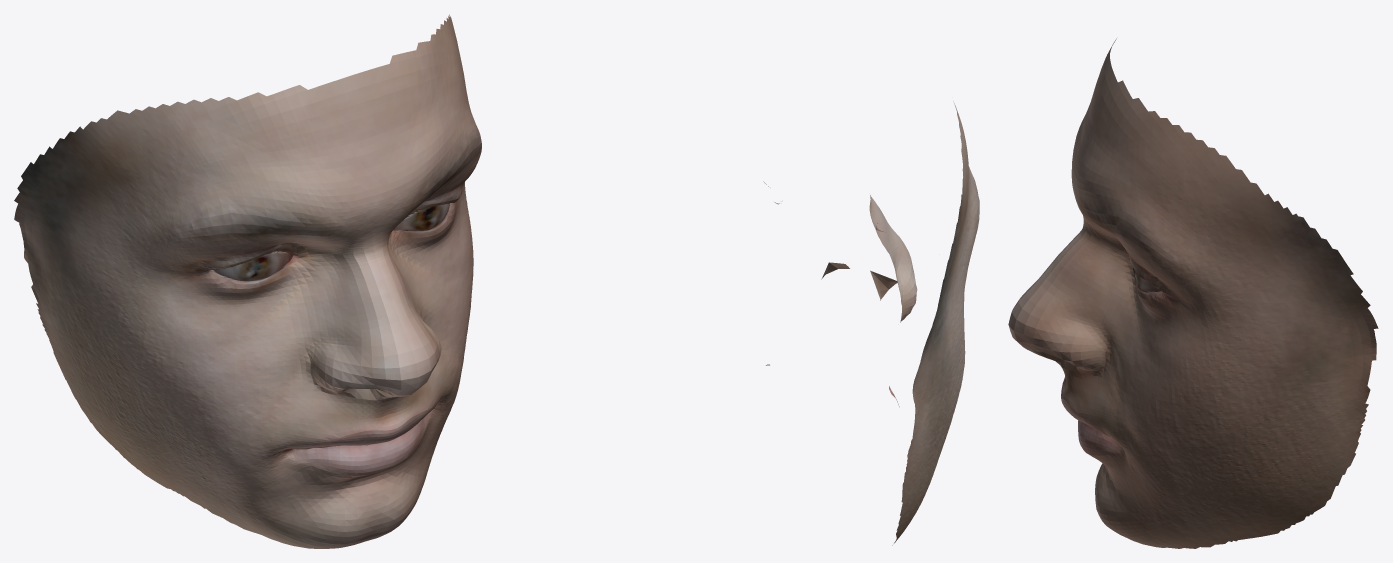
File: Any.glb
3 views of the same model, side by side, from view 1: azimuth 30°, elevation 25°; view 2: azimuth 150°, elevation 25°; view 3: azimuth 270°, elevation 25° (orthographic). The views are drawn at different scales.
Visible parts, largest first — view 1: defaultobject; view 2: defaultobject; view 3: defaultobject.
Part boxes in pixels (x1,y1,x2,y2): defaultobject: (14,14,481,548); defaultobject: (763,101,979,545); defaultobject: (1008,38,1378,548).
Size of the model in its own units: 1.47 by 1.66 by 1.19.
